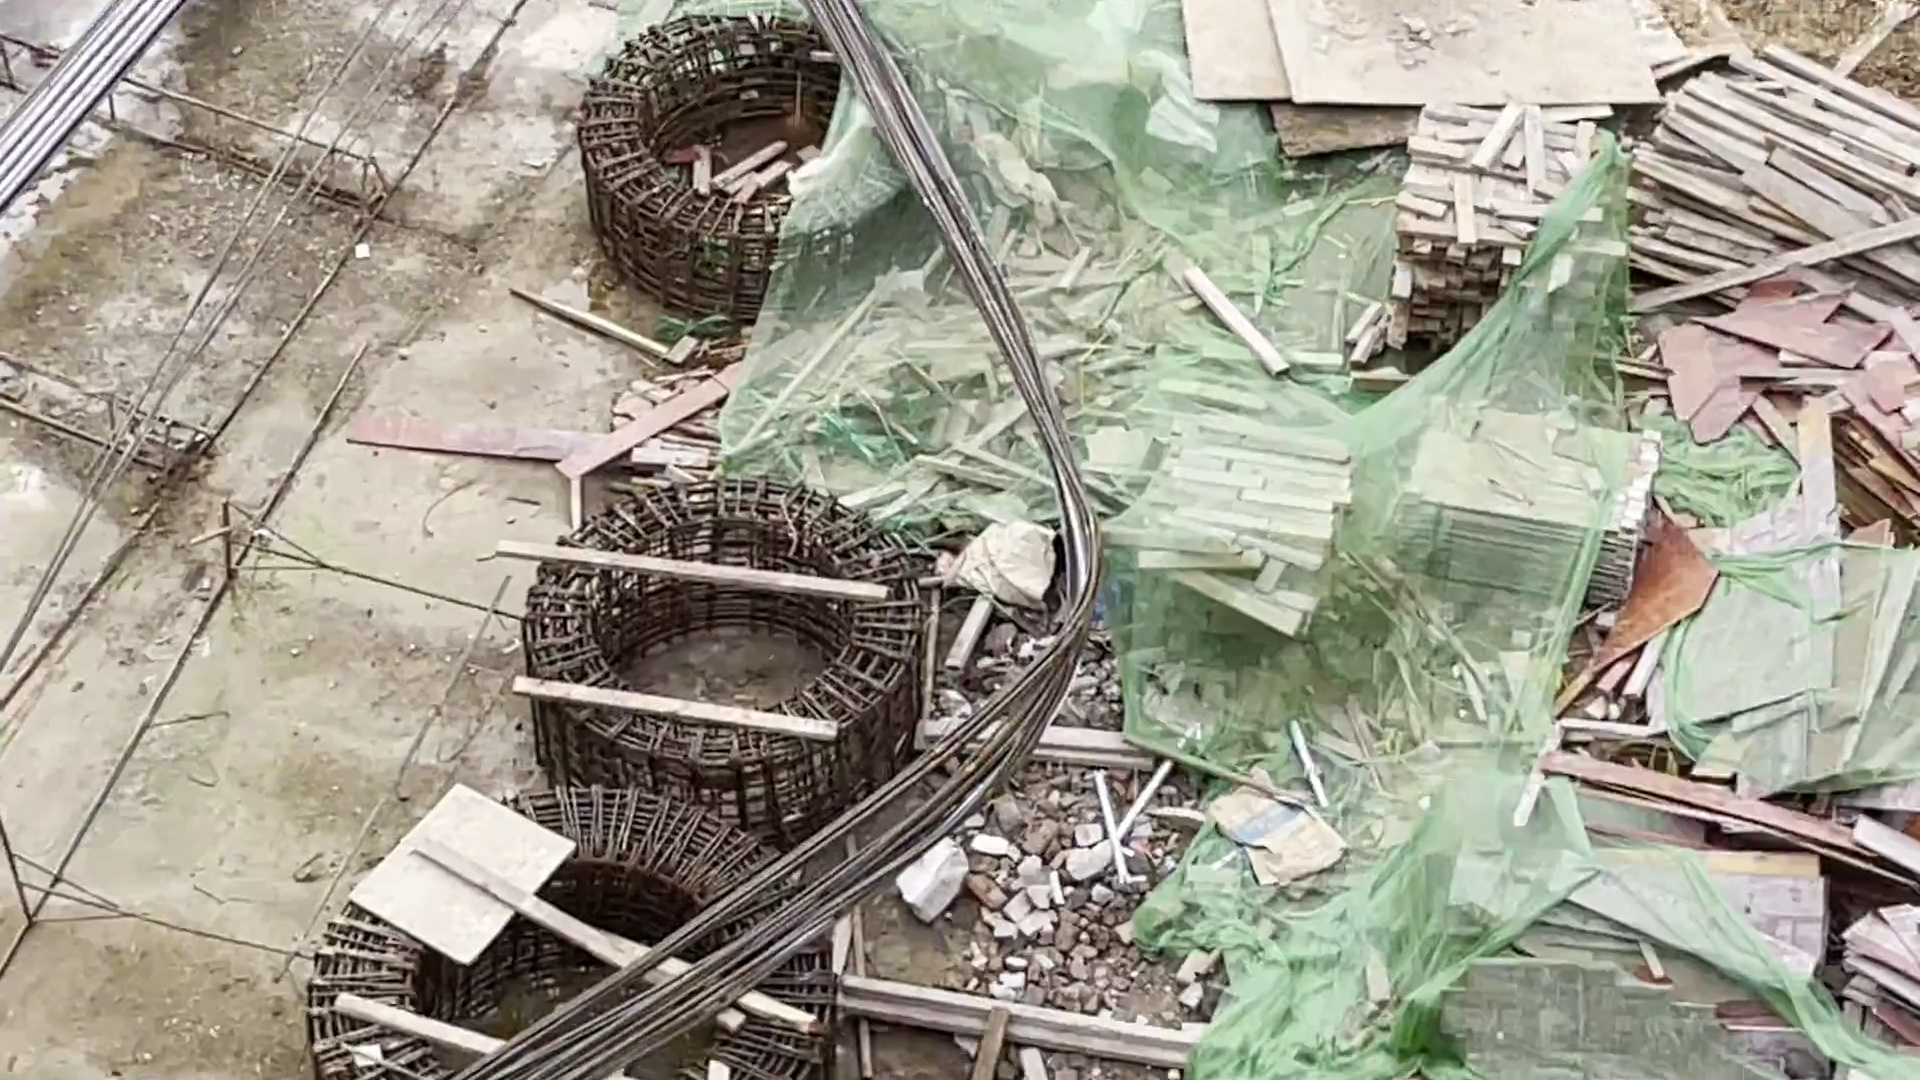board: (1412, 400, 1630, 611)
rebar: (476, 624, 1112, 1079), (804, 4, 1102, 665), (5, 3, 154, 204)
wood: (1159, 435, 1332, 659), (1402, 104, 1567, 322)
